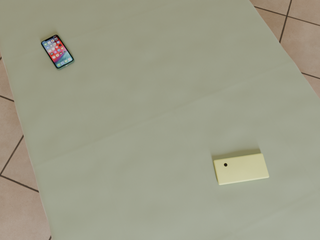phone: (214, 154, 269, 185), (41, 35, 74, 70)
